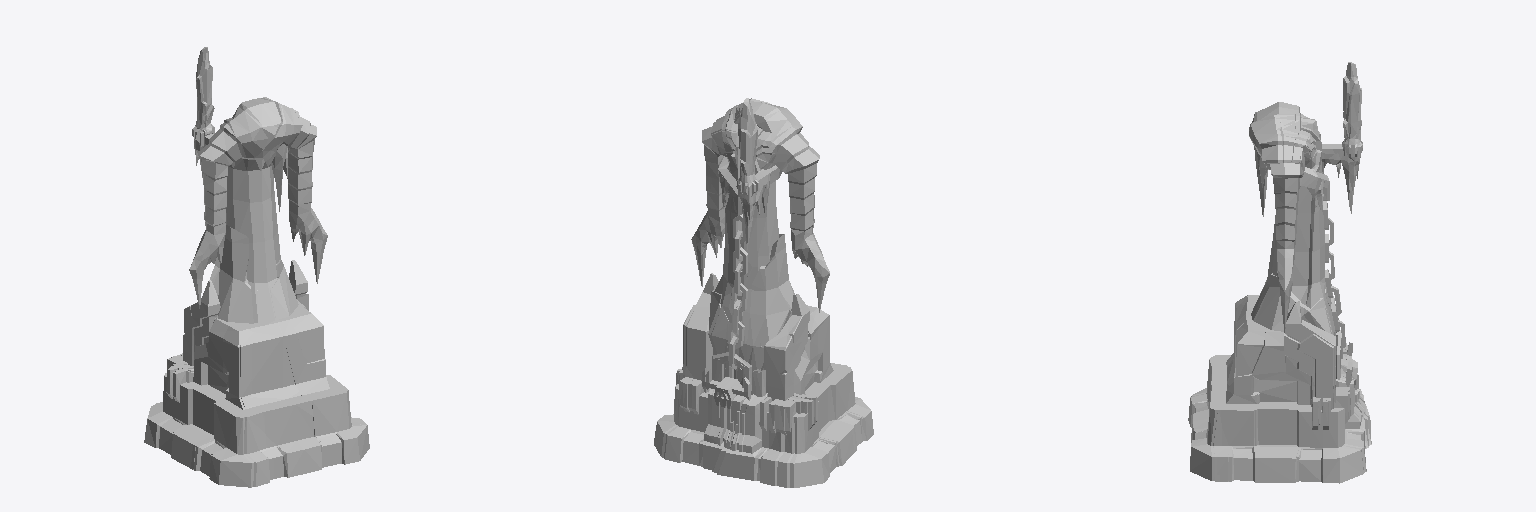
Rendered from ha_chaosturret00.obj.
3 views of the same model, side by side, from view 1: azimuth 30°, elevation 25°; view 2: azimuth 150°, elevation 25°; view 3: azimuth 270°, elevation 25° (orthographic).
Visible parts, largest first — view 1: lolMesh_ha_ap_chaosturret; view 2: lolMesh_ha_ap_chaosturret; view 3: lolMesh_ha_ap_chaosturret.
Boxes of the visible parts, <box> form: lolMesh_ha_ap_chaosturret: <box>144,47,369,487</box>; lolMesh_ha_ap_chaosturret: <box>654,98,873,487</box>; lolMesh_ha_ap_chaosturret: <box>1188,62,1371,483</box>.
Bounding box in the file's own units: 1.87 × 3.96 × 1.76.